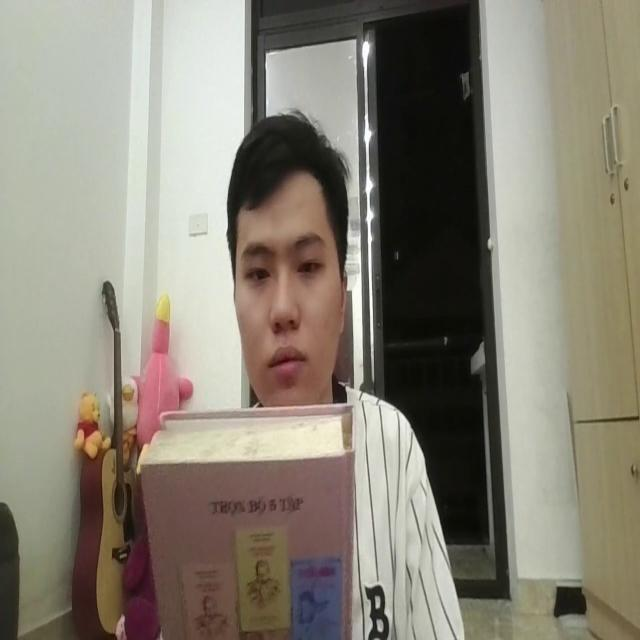book: (137, 392, 356, 640)
student: (221, 92, 469, 640)
